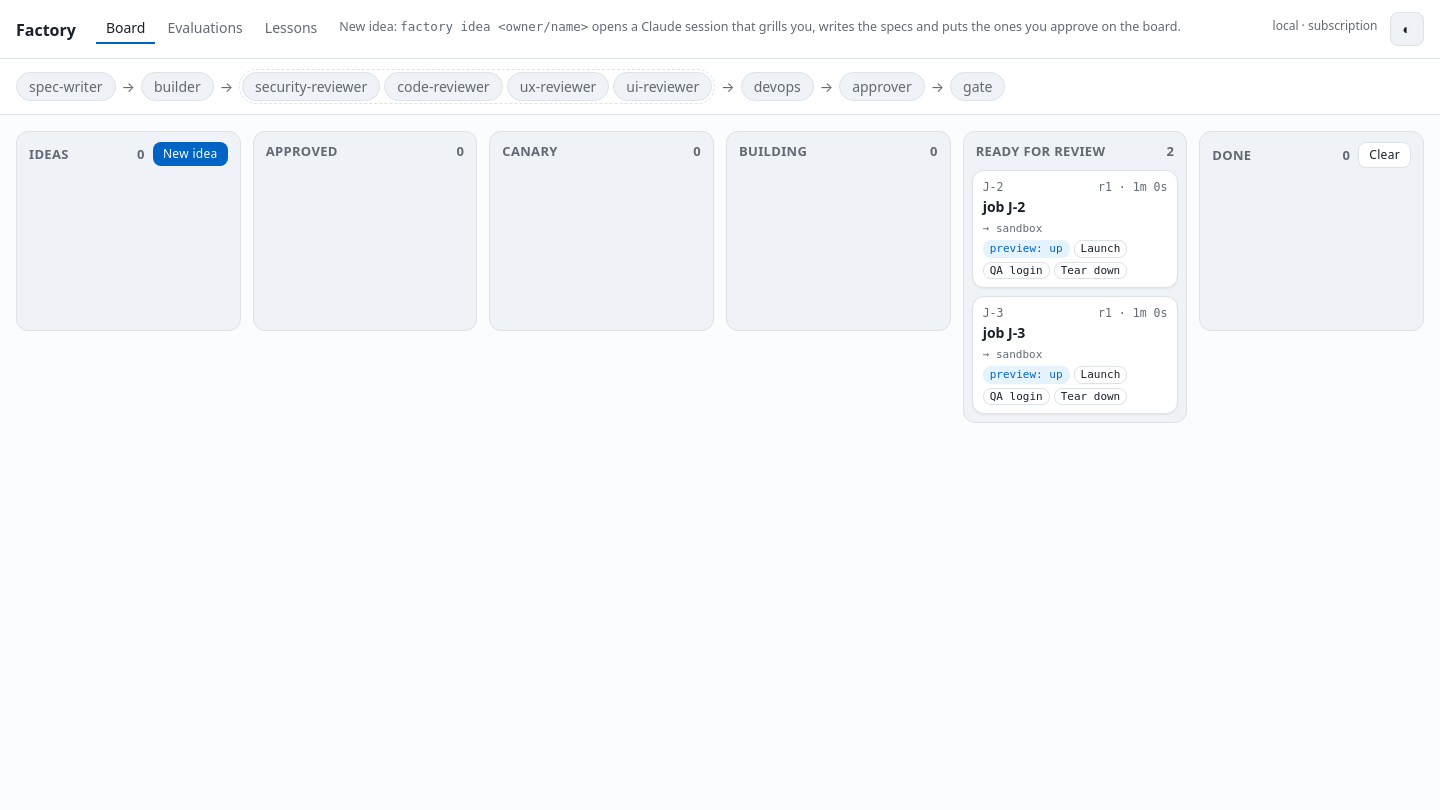
Test: a ready card › opens the telemetry Workbook in a new tab, right after Open preview, when the preview has one
Click the element that starts with "J-2".
click(1075, 229)  # box [972, 170, 1178, 288]
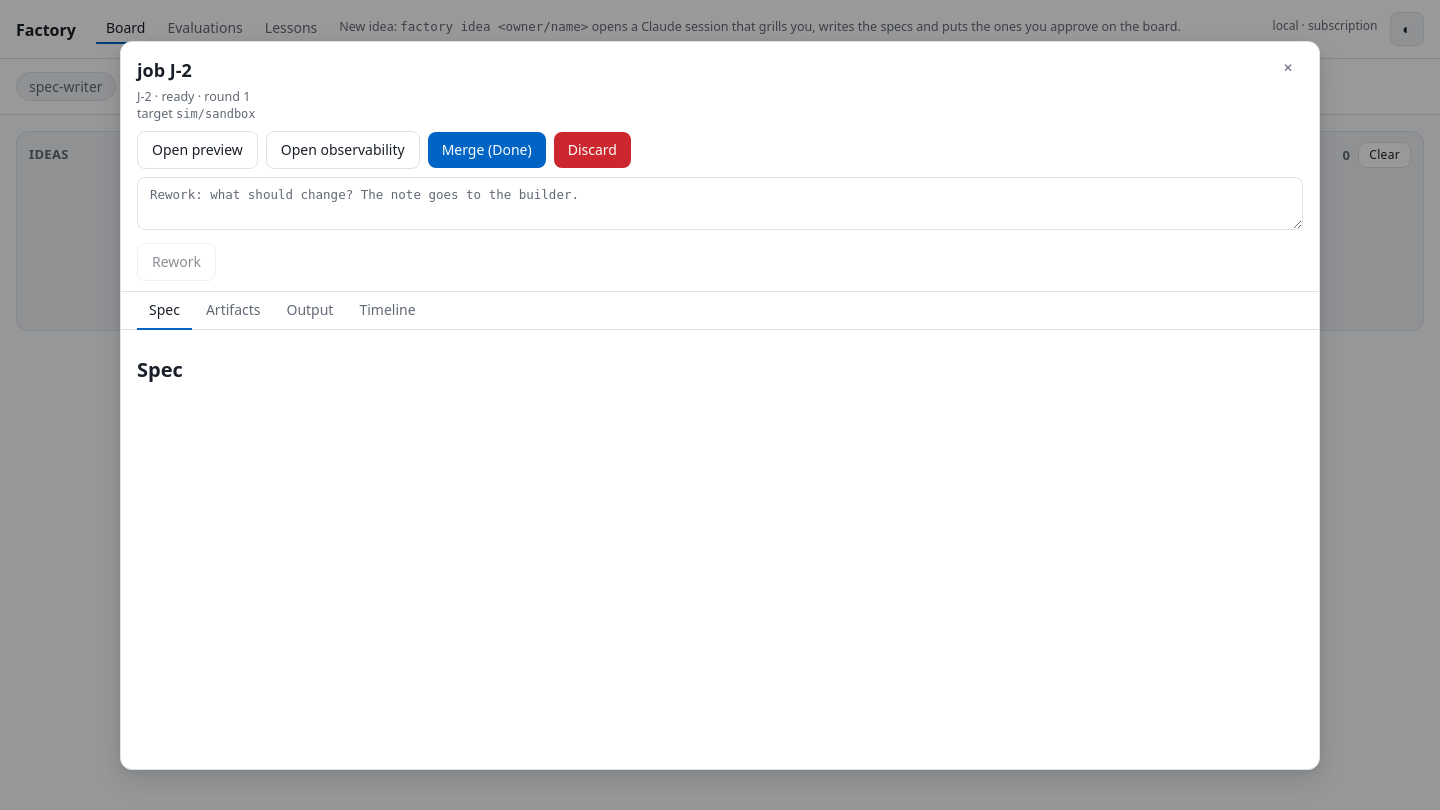
Check: the link with id "observability-btn" reads "Open observability", box [266, 130, 420, 168]
Press Escape
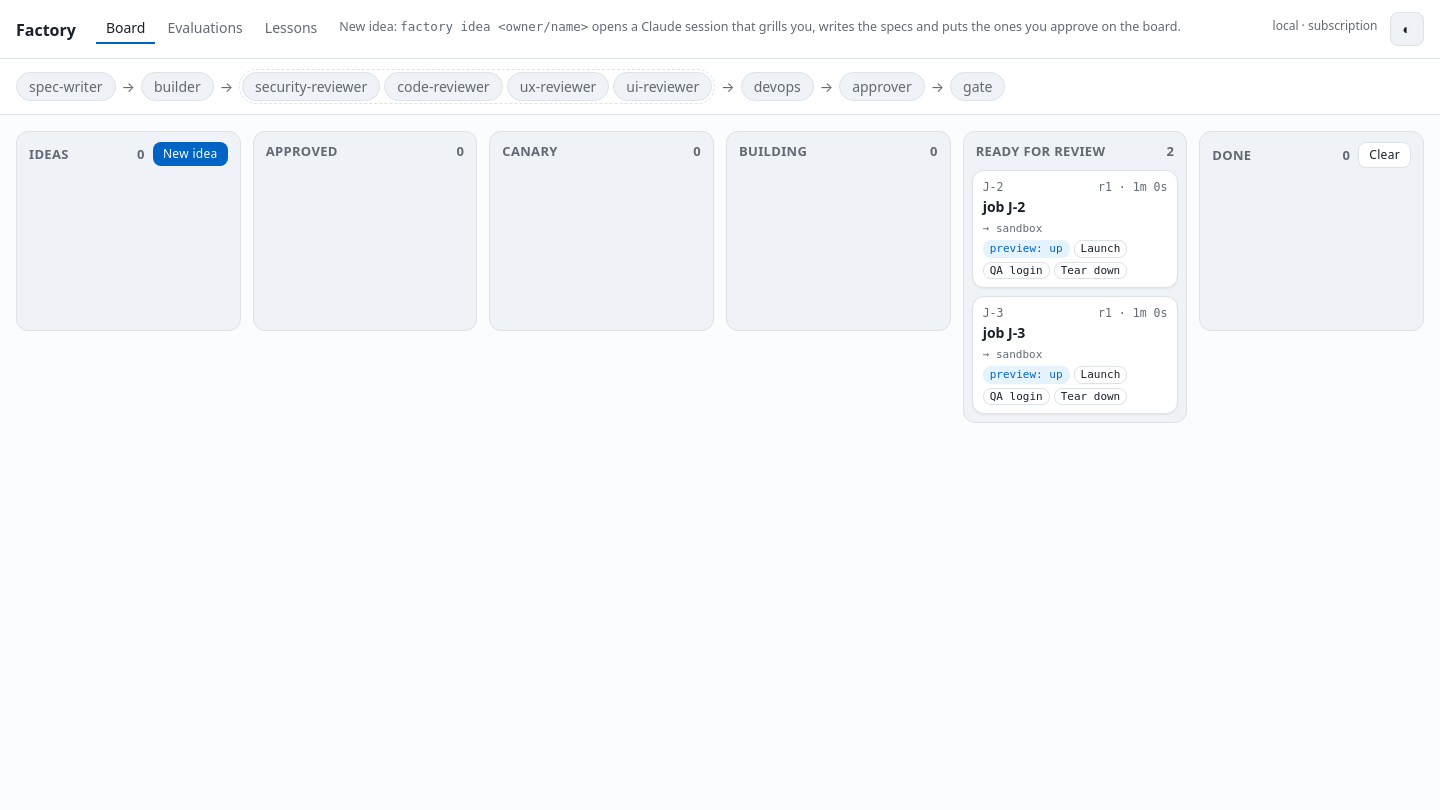
Click the element that starts with "J-3".
click(1075, 355)  # box [972, 296, 1178, 414]
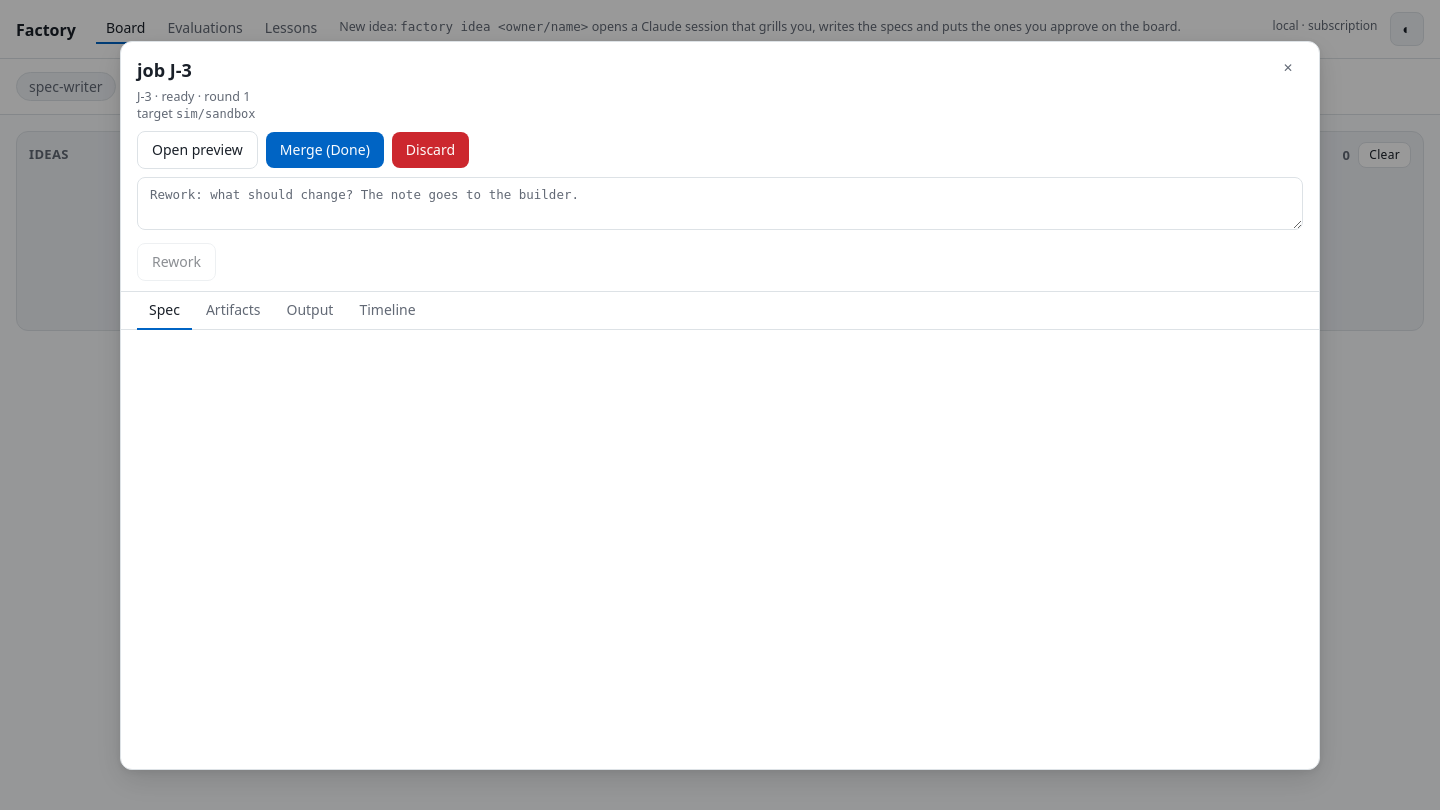
Check: the link "Open preview" is shown, box [137, 130, 258, 168]
